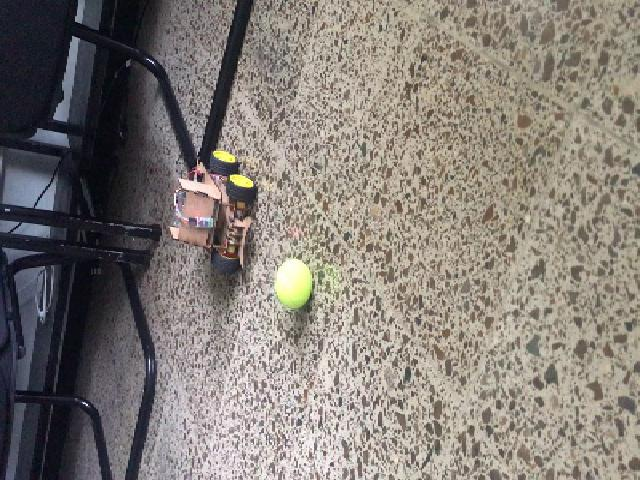Ball: (270, 259, 312, 310)
Robot: (166, 150, 258, 272)
